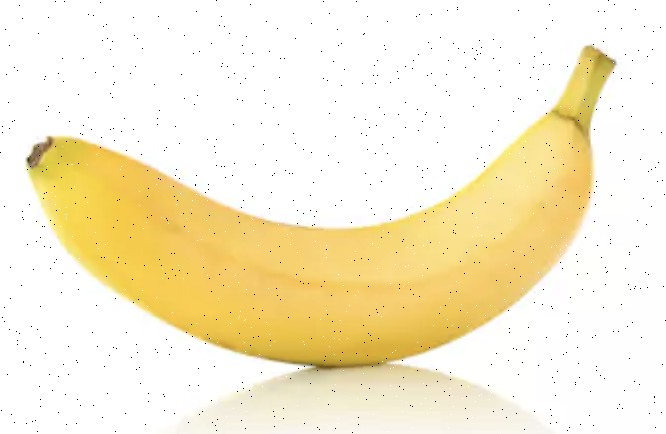fresh_banana: (26, 47, 618, 368)
